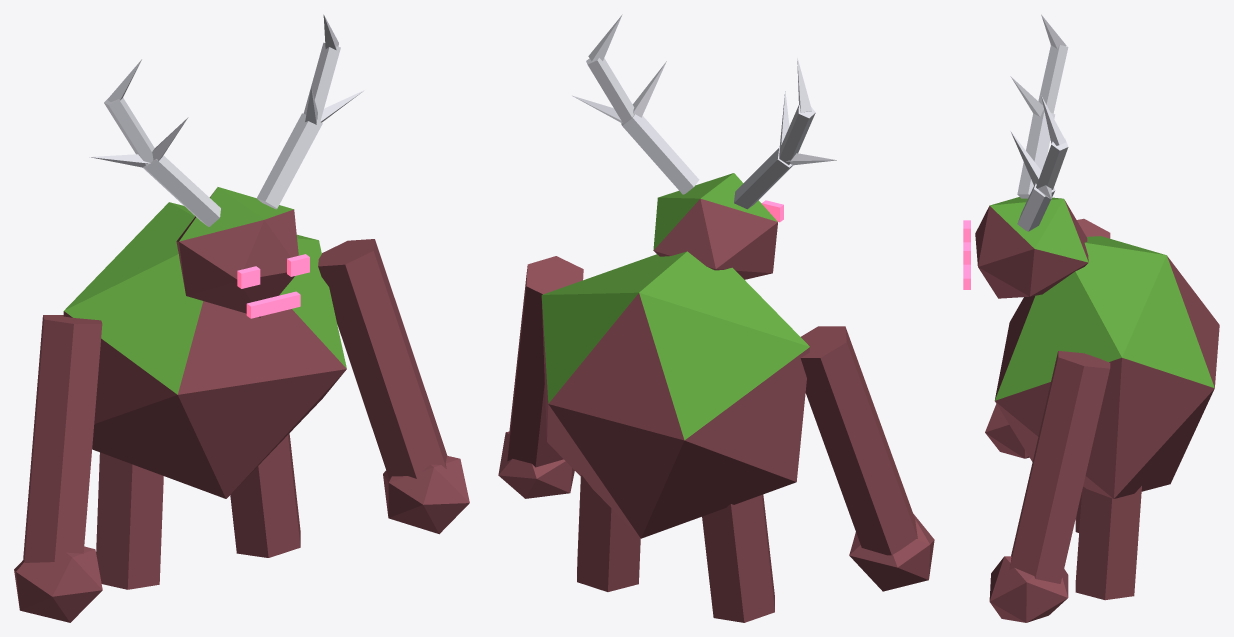
The model's file is boss.glb.
3 views of the same model, side by side, from view 1: azimuth 30°, elevation 25°; view 2: azimuth 150°, elevation 25°; view 3: azimuth 270°, elevation 25° (orthographic). The views are drawn at different scales.
Visible parts, largest first — view 1: Body; view 2: Body; view 3: Body.
Part boxes in pixels (x1,y1,x2,y2): Body: [14, 14, 469, 622]; Body: [498, 14, 934, 622]; Body: [963, 14, 1219, 622].
Bounding box in the file's own units: 3.04 × 3.63 × 1.67.
